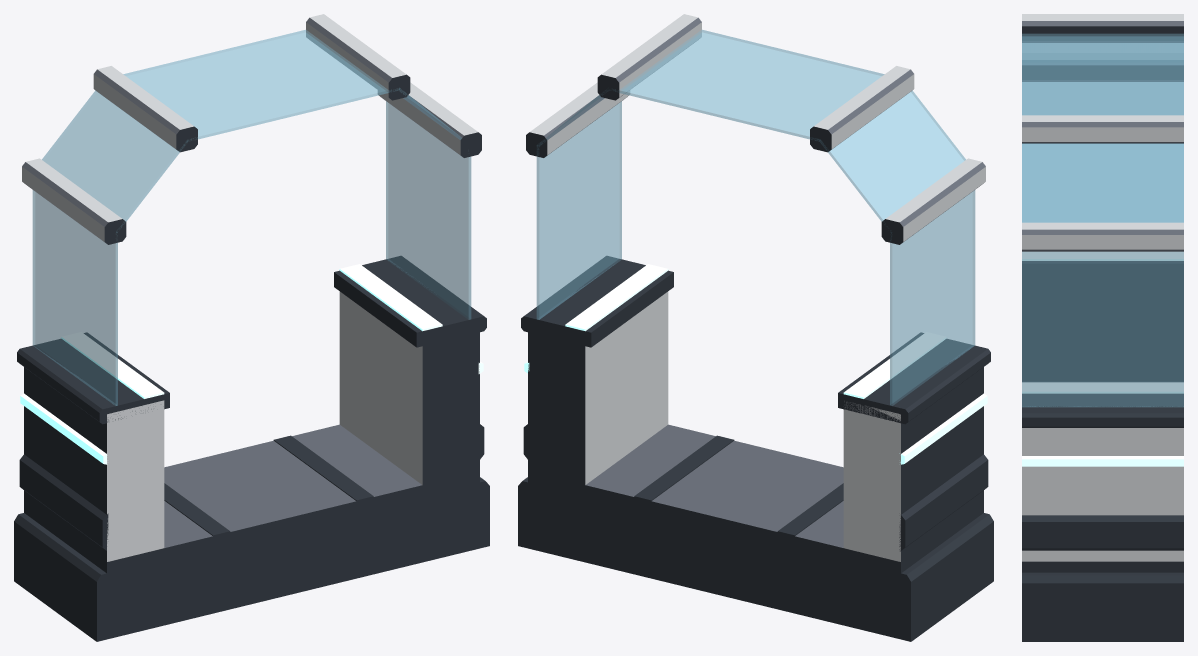
Rendered from Tunnel_Extension.fbx.
3 renders of one model, left to right at view 1: azimuth 30°, elevation 25°; view 2: azimuth 150°, elevation 25°; view 3: azimuth 270°, elevation 25°, orthographic. The views are drawn at different scales.
Visible parts, largest first — view 1: Tunnel_Extension_Body; view 2: Tunnel_Extension_Body; view 3: Tunnel_Extension_Body.
Part boxes in pixels (<box>): Tunnel_Extension_Body: <box>14,14,489,641</box>; Tunnel_Extension_Body: <box>518,14,993,641</box>; Tunnel_Extension_Body: <box>1022,14,1183,641</box>.
Size of the model in its own units: 2.74 by 3.28 by 1.
